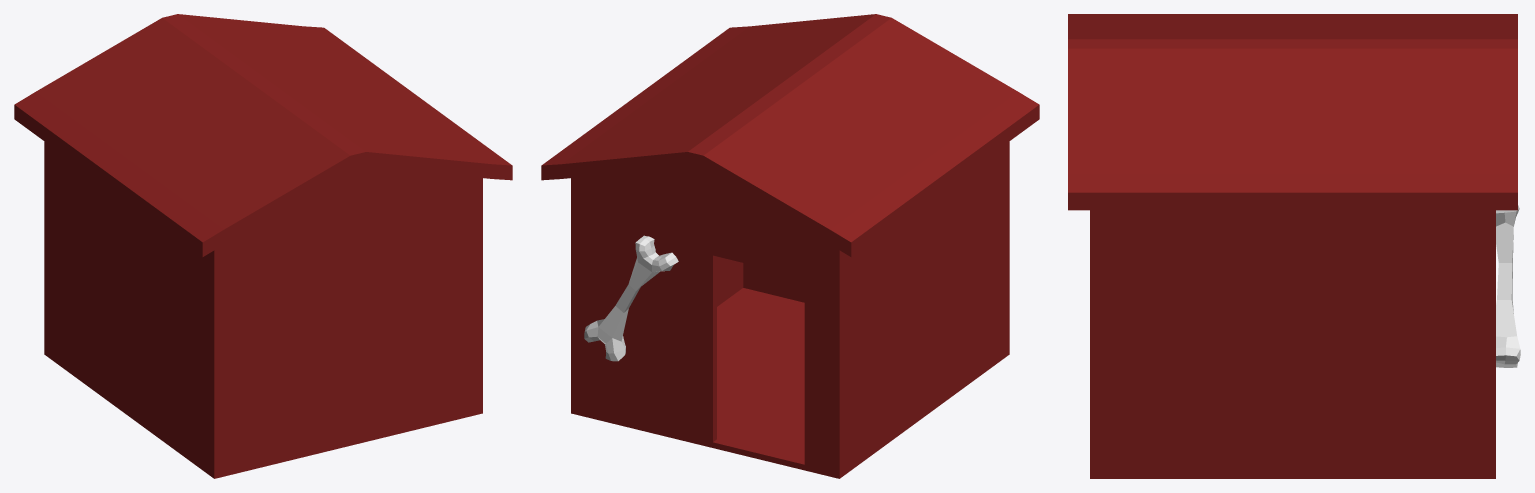
Rendered from Doghouse.fbx.
The picture shows the model from 3 angles, left to right: view 1: azimuth 30°, elevation 25°; view 2: azimuth 150°, elevation 25°; view 3: azimuth 270°, elevation 25°; orthographic projection. The views are drawn at different scales.
Visible parts, largest first — view 1: Cube; view 2: Cube, Cube.001; view 3: Cube, Cube.001.
Part boxes in pixels (<box>): Cube: <box>14,14,512,478</box>; Cube: <box>541,14,1039,478</box>; Cube.001: <box>584,235,678,361</box>; Cube: <box>1068,14,1517,478</box>; Cube.001: <box>1496,205,1520,367</box>.
Size of the model in its own units: 92.09 by 84.96 by 97.65.
